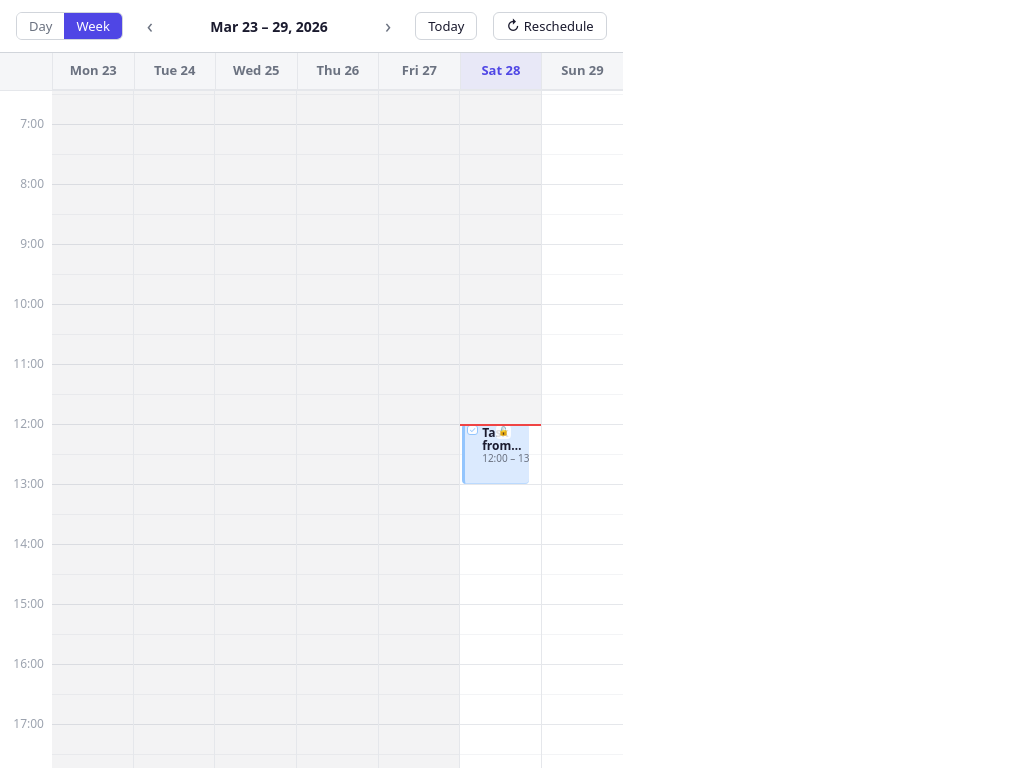
CalendarView — chunk completion dialog › opens the completion dialog with chunk selected by default
(page scrolled)
Click the checkbox with class "complete-toggle" at (473, 430), box [467,424,478,435]
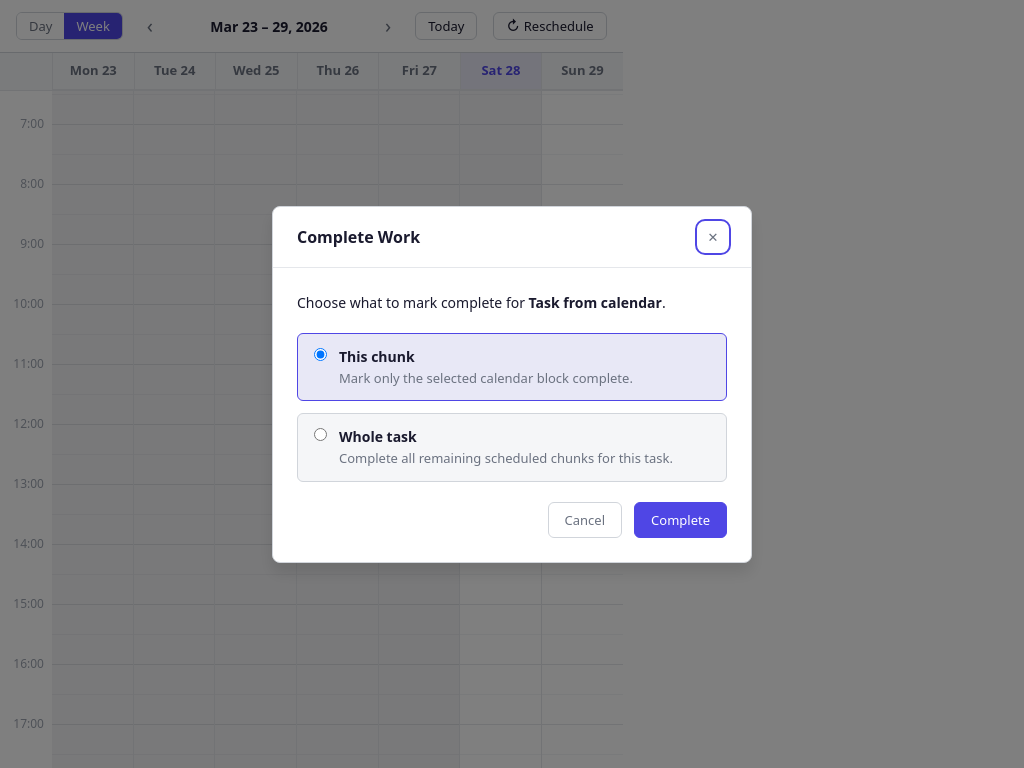
Check: the heading "Complete Work" is shown, box [297,226,420,246]
Check: the radio button named "completion-target" is checked, box [314,348,327,360]
